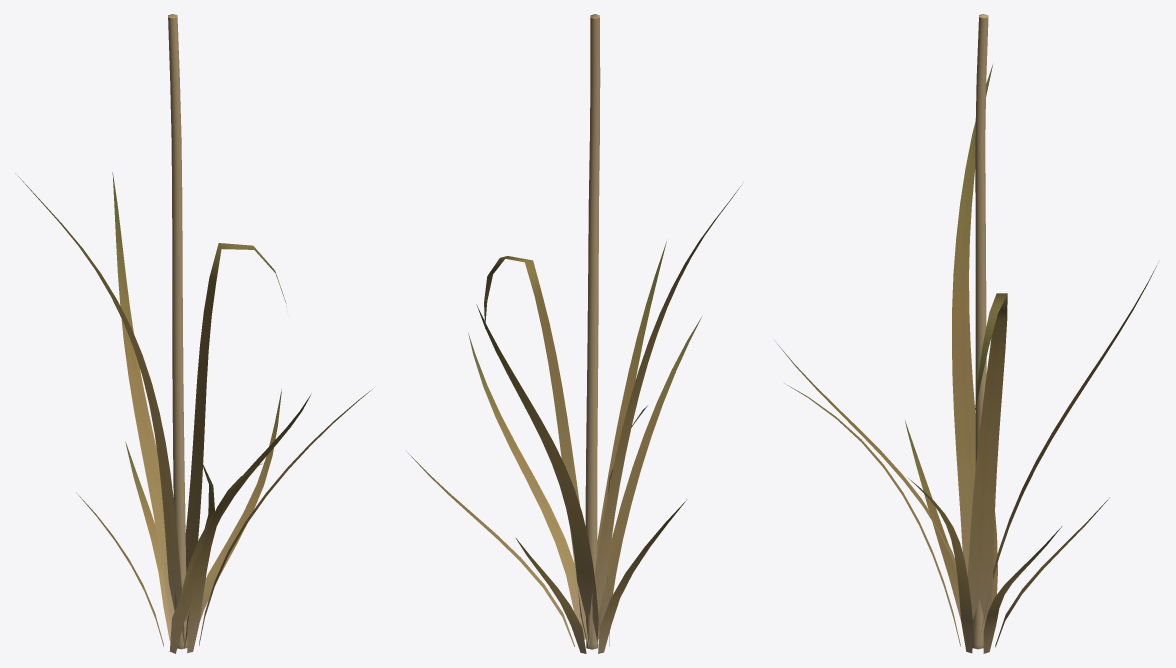
The model's file is wheat_single_strand_cut.fbx.
3 renders of one model, left to right at view 1: azimuth 30°, elevation 25°; view 2: azimuth 150°, elevation 25°; view 3: azimuth 270°, elevation 25°, orthographic.
Visible parts, largest first — view 1: wheat__0.014; view 2: wheat__0.014; view 3: wheat__0.014.
Boxes of the visible parts, box(x1,y1,x2,y2) form: wheat__0.014: box(15, 14, 372, 653); wheat__0.014: box(407, 14, 741, 653); wheat__0.014: box(775, 14, 1156, 653).
Size of the model in its own units: 24.8 by 46.85 by 26.25.
1 material, 1 textured.
